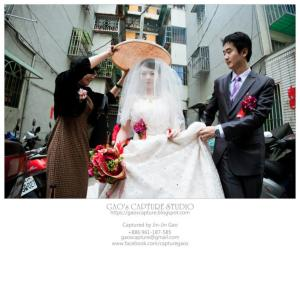Vehicle-registration-plate: (21, 176, 39, 197)
